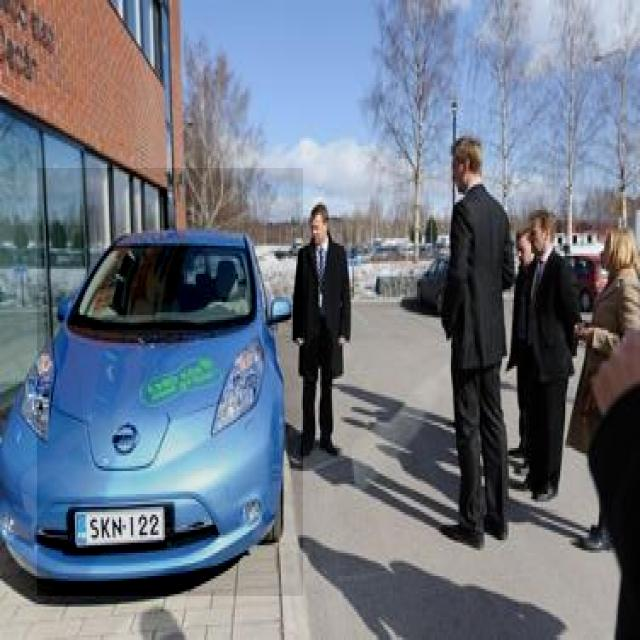Car: (37, 168, 303, 596)
